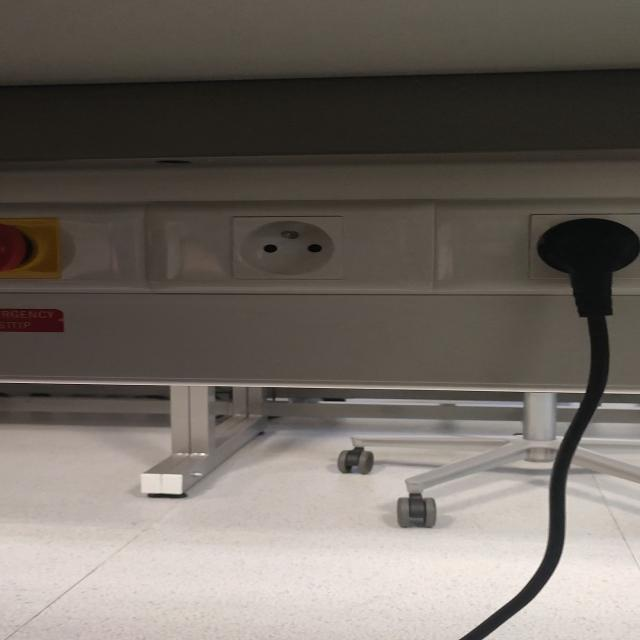house plug: (227, 213, 353, 280)
safety switch: (0, 218, 64, 281)
